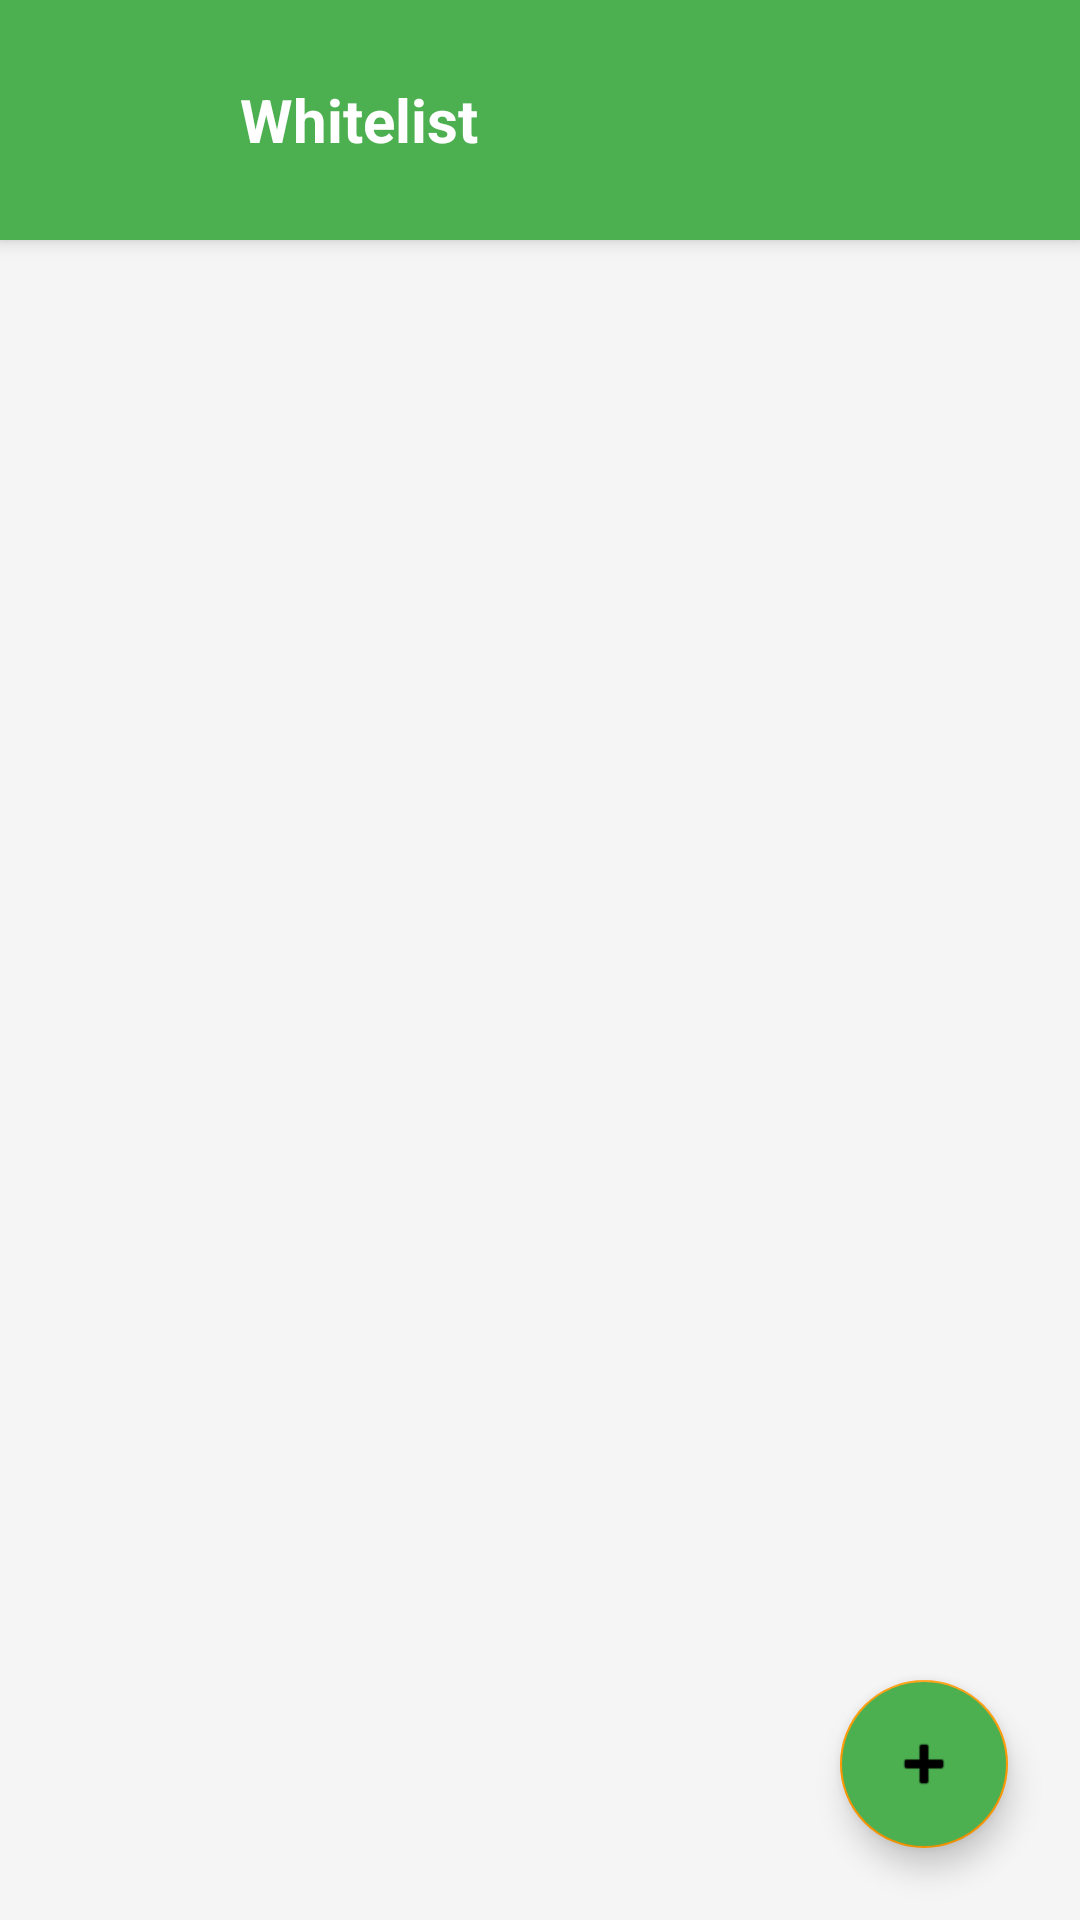

Where to tap for icons on this 1080x1920 app screen, as point (x, y):
Add to whitelist: point (924, 1764)
